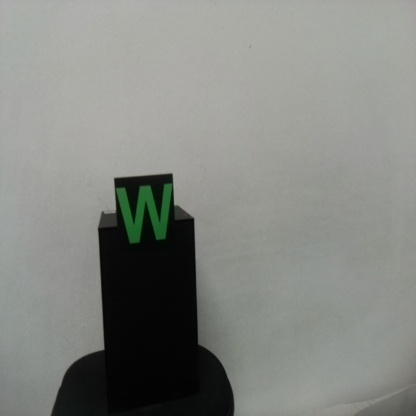id_12: (113, 177, 174, 257)
